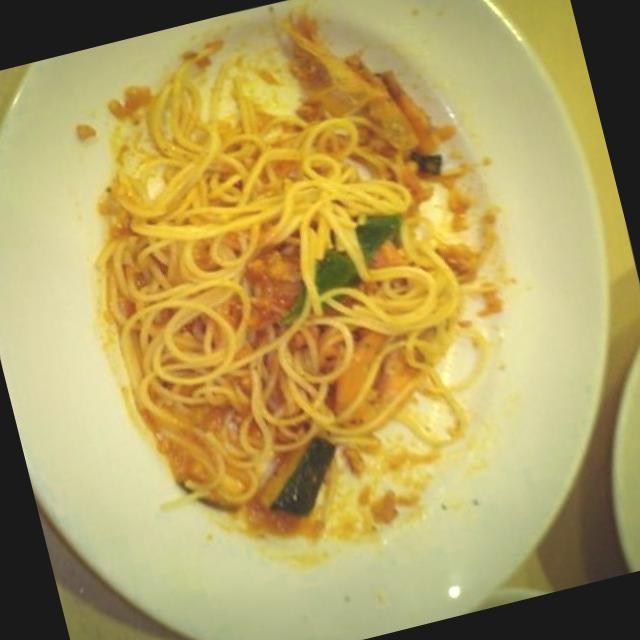Pasta: (23, 0, 562, 583)
